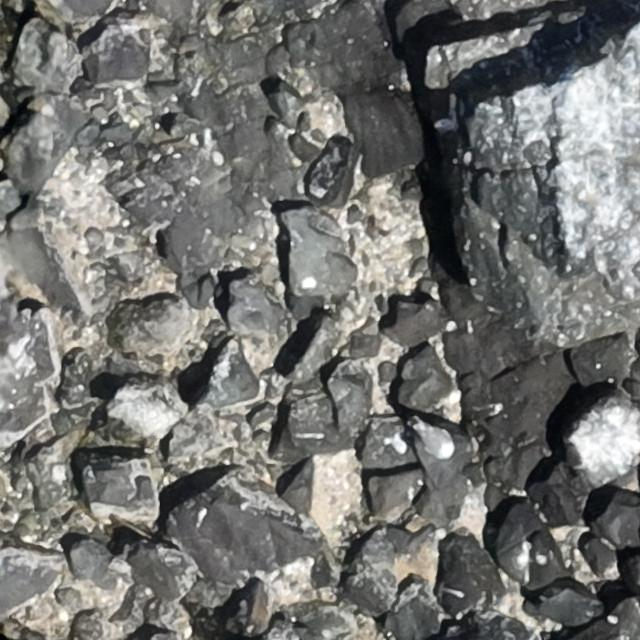umineko: (415, 419, 459, 461)
